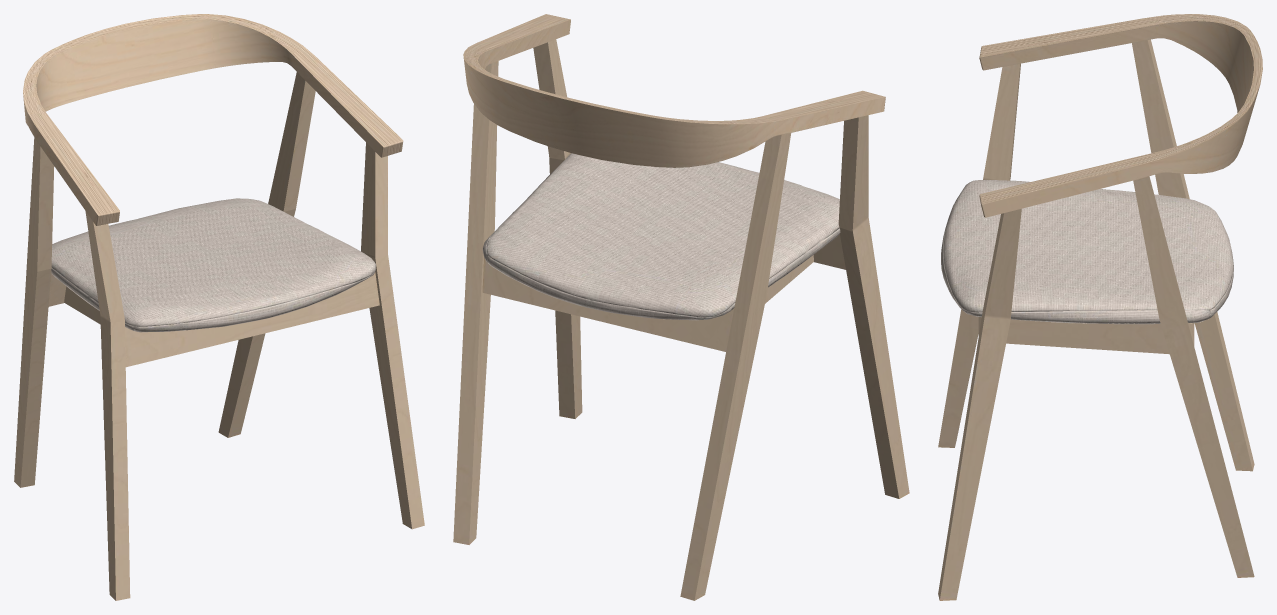
The picture shows the model from 3 angles, left to right: view 1: azimuth 30°, elevation 25°; view 2: azimuth 150°, elevation 25°; view 3: azimuth 270°, elevation 25°; orthographic projection. The views are drawn at different scales.
Parts seen in each view (by area): view 1: ASY_ART_30621201_S01_NV01; view 2: ASY_ART_30621201_S01_NV01; view 3: ASY_ART_30621201_S01_NV01.
Part boxes in pixels (x1,y1,x2,y2): ASY_ART_30621201_S01_NV01: [14, 14, 424, 600]; ASY_ART_30621201_S01_NV01: [453, 14, 909, 600]; ASY_ART_30621201_S01_NV01: [938, 14, 1262, 600].
Size of the model in its own units: 0.571 by 0.7542 by 0.4881.
Materials: 1 (1 with a texture image).
